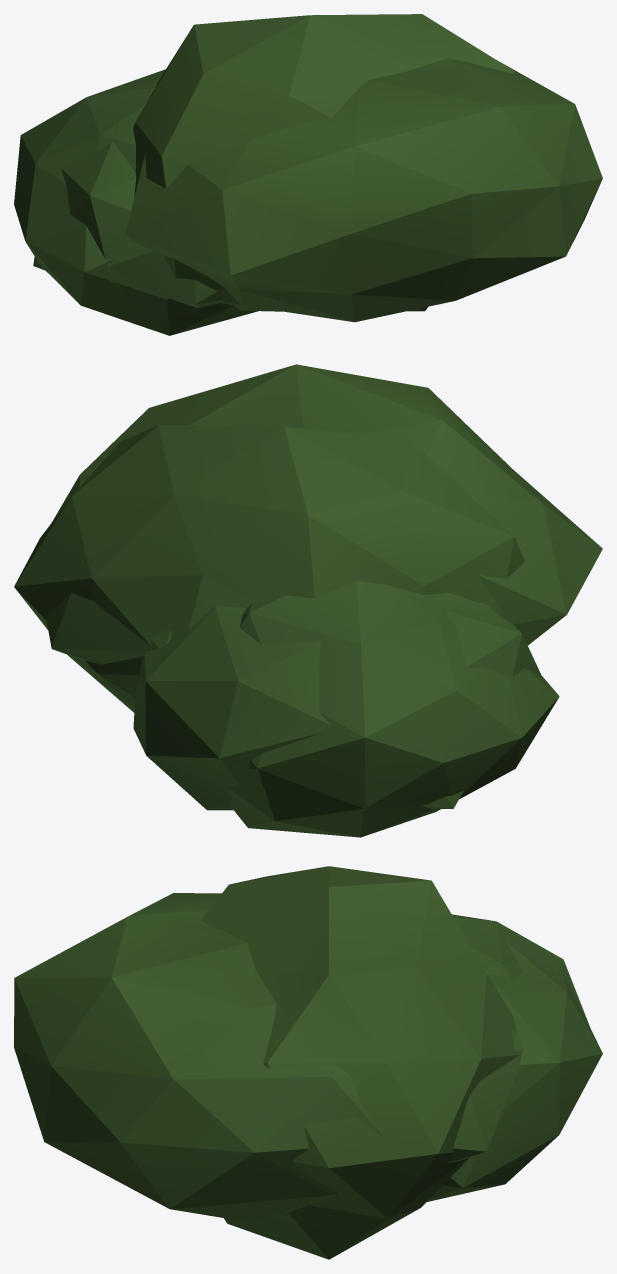
File: veg_buske_1.glb
The picture shows the model from 3 angles, top to bottom: view 1: azimuth 30°, elevation 25°; view 2: azimuth 150°, elevation 25°; view 3: azimuth 270°, elevation 25°; orthographic projection. The views are drawn at different scales.
Parts seen in each view (by area): view 1: geometry_0; view 2: geometry_0; view 3: geometry_0.
Boxes of the visible parts, x1,y1,x2,y2 form: geometry_0: [14, 14, 602, 335]; geometry_0: [14, 364, 602, 837]; geometry_0: [14, 866, 602, 1259].
Bounding box in the file's own units: 1.65 × 1 × 1.67.
